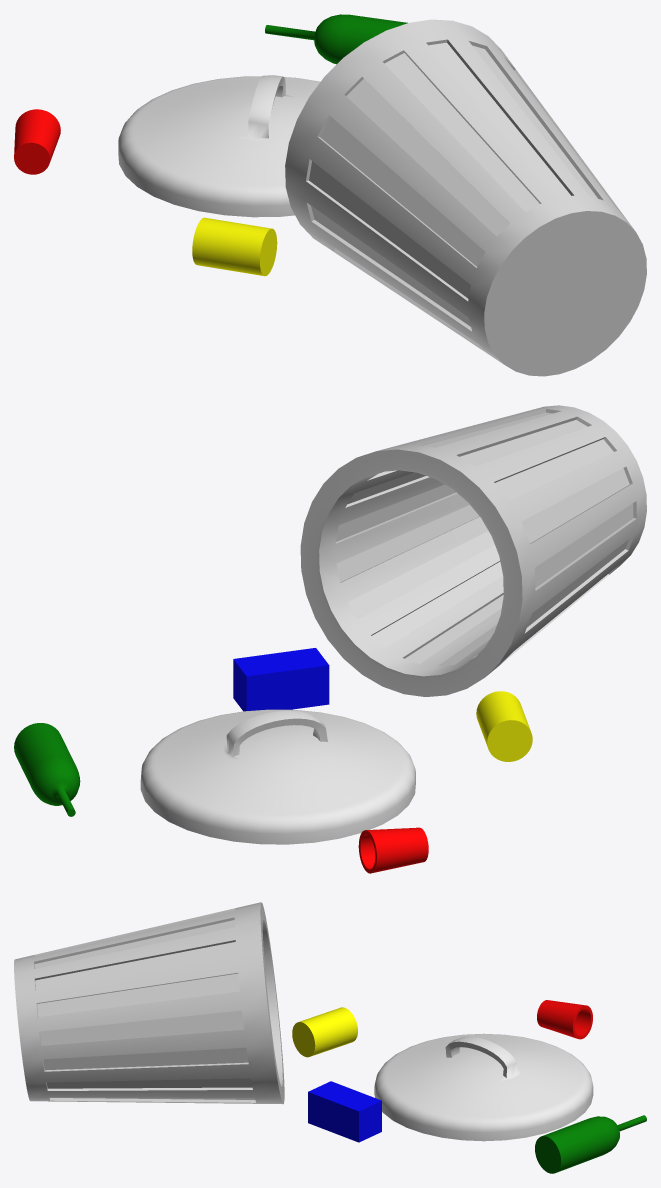
The model's file is Trash Bin.fbx.
The picture shows the model from 3 angles, top to bottom: view 1: azimuth 30°, elevation 25°; view 2: azimuth 150°, elevation 25°; view 3: azimuth 270°, elevation 25°; orthographic projection. The views are drawn at different scales.
Parts seen in each view (by area): view 1: Trash Bin, Lid, Can, Bottle, Cup; view 2: Trash Bin, Lid, Box, Bottle, Can, Cup; view 3: Trash Bin, Lid, Bottle, Box, Can, Cup.
Boxes of the visible parts, left/top/right/bottom form: Trash Bin: left=285, top=19, right=646, bottom=376; Lid: left=118, top=75, right=320, bottom=217; Can: left=192, top=217, right=277, bottom=276; Bottle: left=265, top=14, right=407, bottom=64; Cup: left=14, top=109, right=60, bottom=174; Trash Bin: left=300, top=405, right=646, bottom=696; Lid: left=140, top=709, right=415, bottom=844; Box: left=233, top=648, right=329, bottom=711; Bottle: left=14, top=723, right=80, bottom=816; Can: left=476, top=691, right=532, bottom=761; Cup: left=358, top=827, right=428, bottom=873; Trash Bin: left=14, top=902, right=284, bottom=1104; Lid: left=374, top=1033, right=593, bottom=1141; Bottle: left=535, top=1115, right=646, bottom=1173; Box: left=308, top=1081, right=381, bottom=1142; Can: left=292, top=1007, right=357, bottom=1057; Cup: left=537, top=1000, right=592, bottom=1039.
Size of the model in its own units: 526 by 288 by 886.
